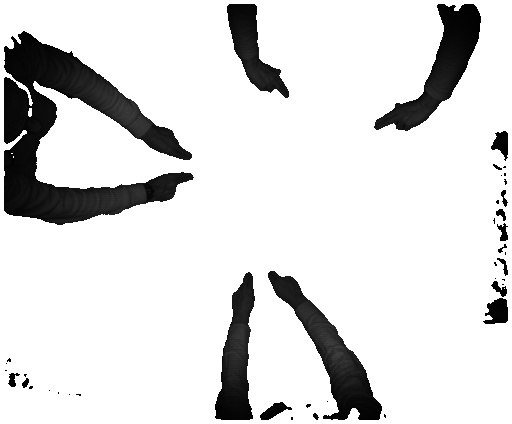hand: (368, 93, 427, 135), (242, 61, 295, 103), (264, 264, 311, 308), (151, 112, 191, 159), (149, 170, 199, 207), (232, 272, 255, 320)
